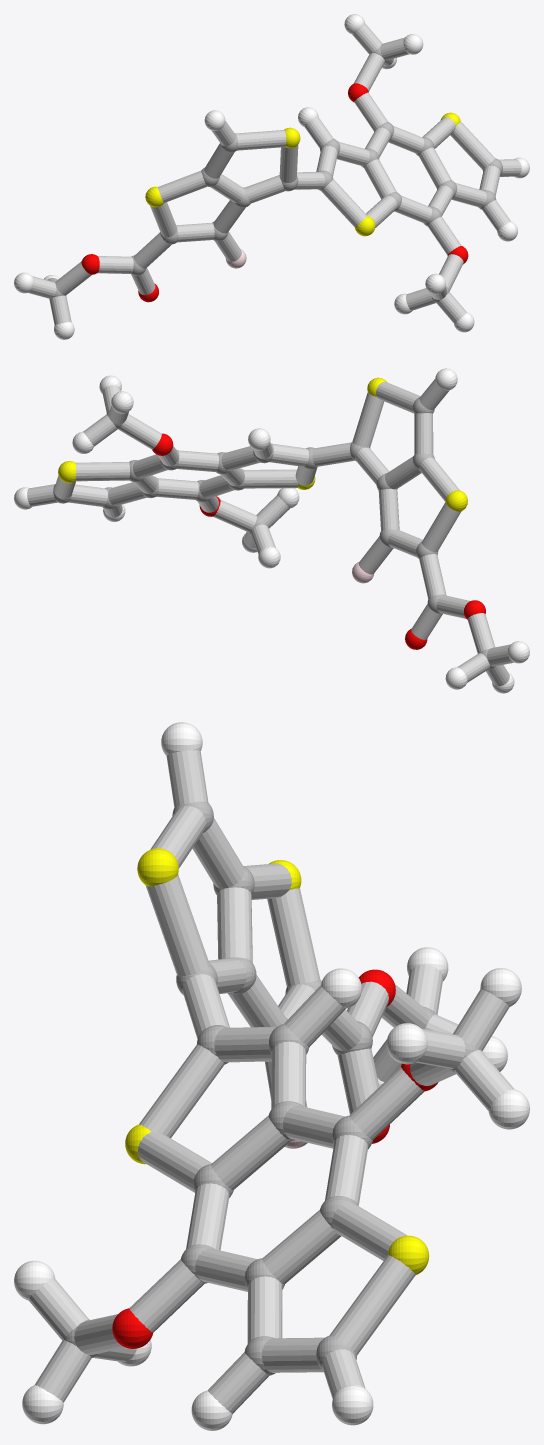
Rendered from color.glb.
3 renders of one model, top to bottom at view 1: azimuth 30°, elevation 25°; view 2: azimuth 150°, elevation 25°; view 3: azimuth 270°, elevation 25°, orthographic. The views are drawn at different scales.
Parts seen in each view (by area): view 1: grp15205, grp8689, grp1, grp7241, grp13395; view 2: grp15205, grp8689, grp1, grp7241, grp13395; view 3: grp15205, grp8689, grp1, grp7241, grp13395.
Part boxes in pixels (x1=…): grp15205: x1=28, y1=23, x2=521, y2=324; grp8689: x1=14, y1=14, x2=529, y2=339; grp1: x1=53, y1=47, x2=502, y2=302; grp7241: x1=145, y1=112, x2=460, y2=236; grp13395: x1=81, y1=83, x2=468, y2=302; grp15205: x1=27, y1=379, x2=513, y2=686; grp8689: x1=14, y1=368, x2=529, y2=693; grp1: x1=53, y1=397, x2=495, y2=669; grp7241: x1=58, y1=377, x2=467, y2=511; grp13395: x1=152, y1=433, x2=485, y2=649; grp15205: x1=28, y1=750, x2=513, y2=1413; grp8689: x1=14, y1=722, x2=529, y2=1430; grp1: x1=63, y1=801, x2=479, y2=1375; grp7241: x1=125, y1=848, x2=429, y2=1274; grp13395: x1=112, y1=969, x2=438, y2=1348.
Bounding box in the file's own units: 16.41 × 7.83 × 7.46.
